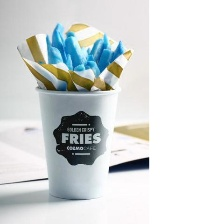paper_cup: (32, 80, 123, 204)
